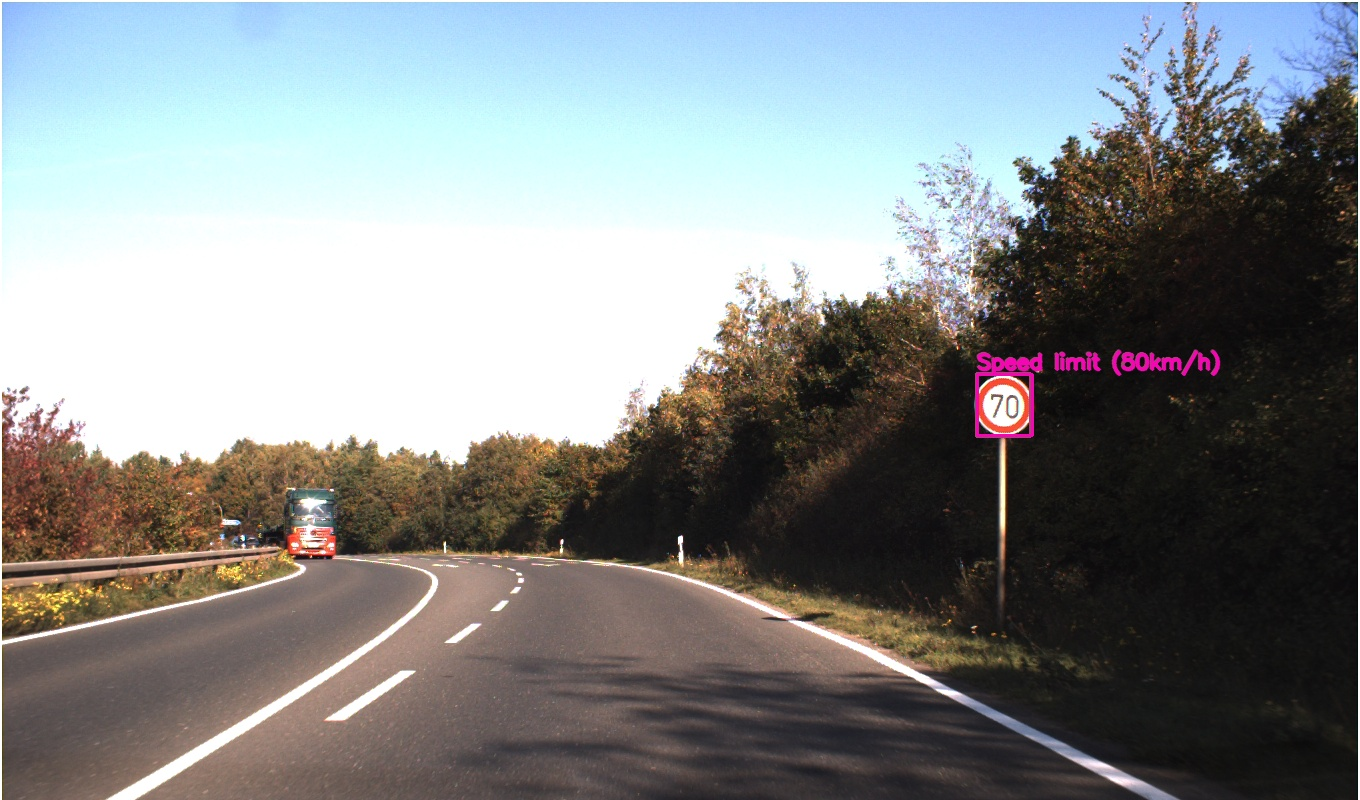Slippery road: (46, 350, 136, 444), (945, 435, 1006, 492)
Speed limit (30km/h): (998, 292, 1074, 371)
